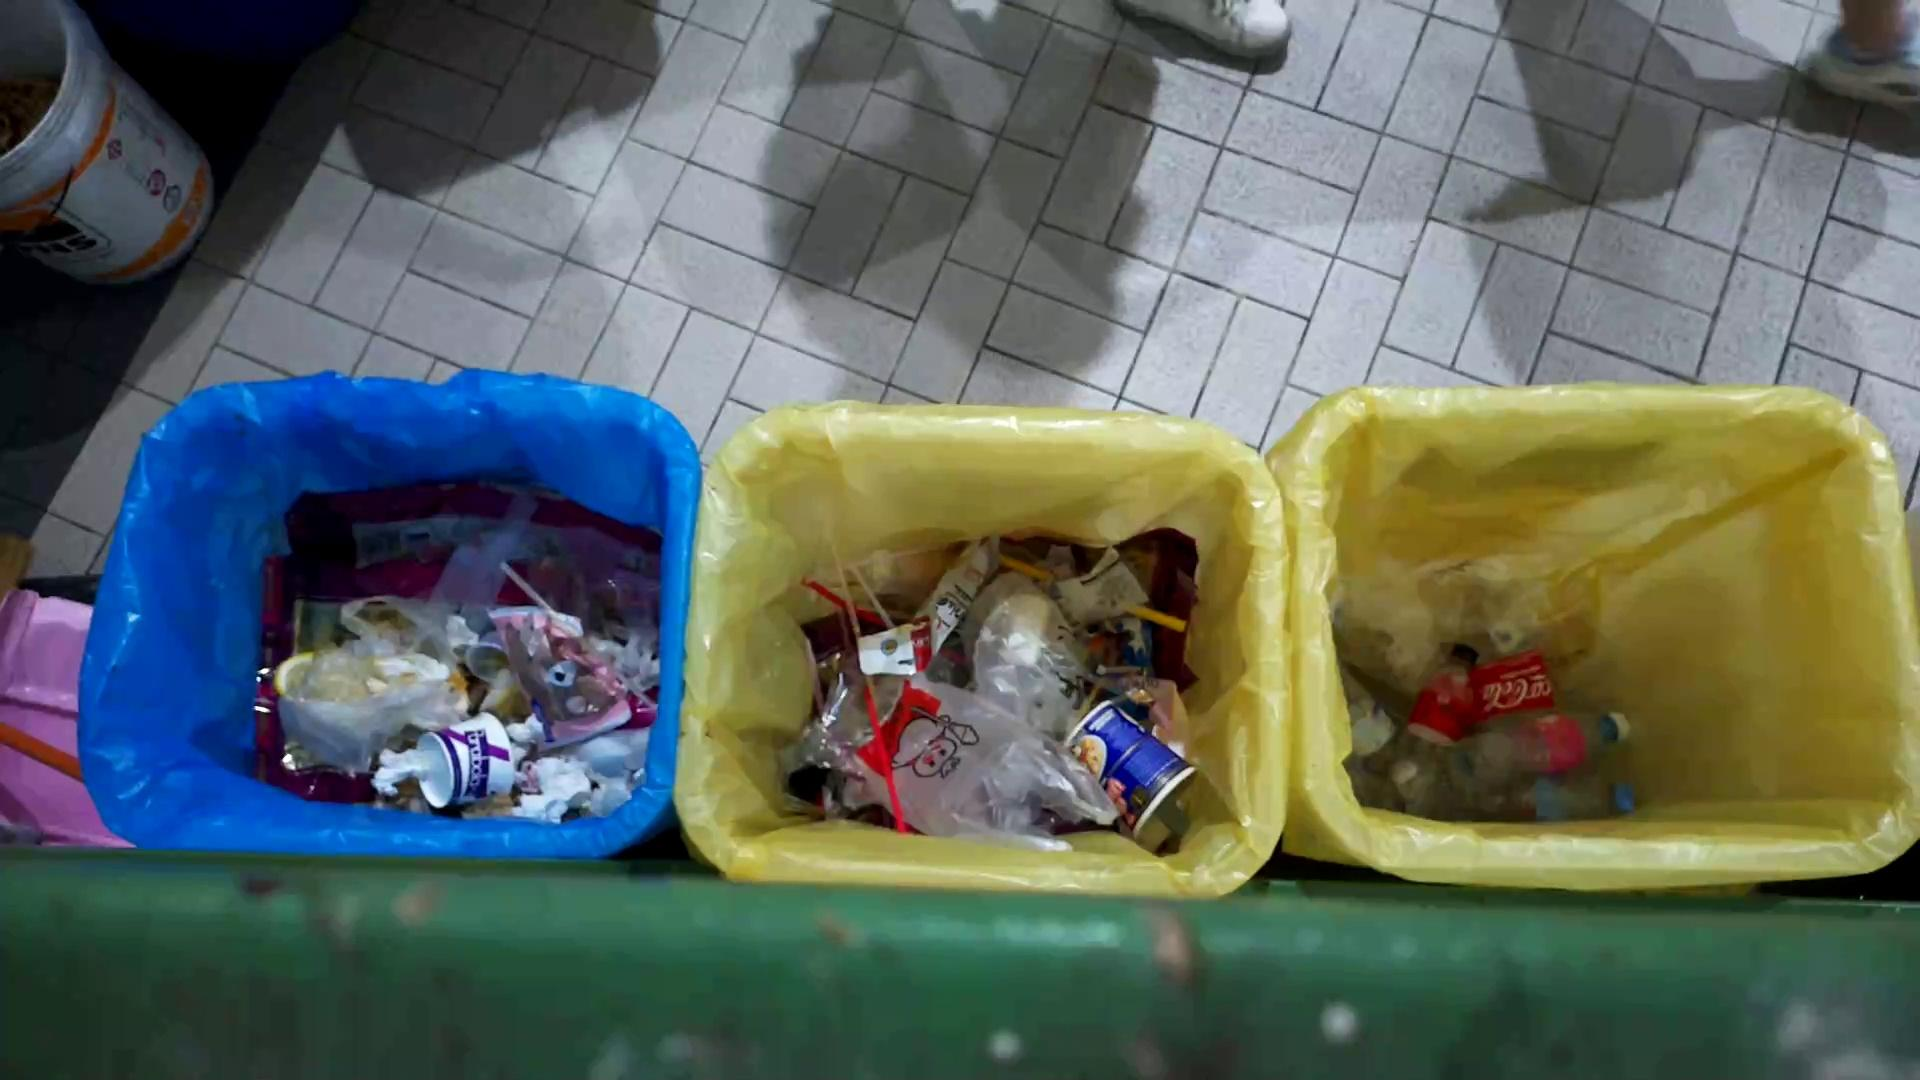filled plastic bag: (268, 582, 473, 770), (961, 571, 1087, 736)
food container: (1058, 696, 1203, 841), (410, 707, 518, 812), (459, 626, 525, 687)
plastic bag: (839, 667, 1118, 851)
plastic bottle: (1381, 637, 1482, 818), (1449, 704, 1636, 795), (1335, 650, 1419, 790), (1320, 568, 1465, 647), (1445, 766, 1639, 822)
plastic cup: (1506, 567, 1621, 705)
snack packaging: (471, 592, 657, 745), (856, 531, 1004, 680), (1051, 543, 1153, 630)
straw: (497, 558, 661, 712), (994, 551, 1193, 636), (823, 518, 882, 712), (861, 684, 909, 836), (812, 541, 968, 580), (800, 574, 885, 629), (847, 560, 898, 636), (853, 600, 916, 620)
tissue paper: (364, 736, 435, 806), (588, 628, 662, 695), (529, 754, 592, 811), (582, 765, 640, 818), (443, 609, 483, 657), (508, 712, 546, 756), (514, 794, 568, 824)
